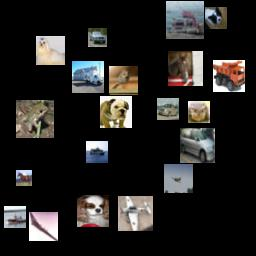airplane: (118, 196, 153, 231), (164, 164, 193, 193), (29, 212, 58, 241)
automobile: (180, 128, 215, 163), (157, 98, 179, 120), (88, 28, 107, 47)
bird: (109, 66, 138, 95)
dog: (100, 96, 132, 128), (77, 195, 109, 227), (36, 36, 65, 65), (205, 7, 227, 29)
frog: (16, 100, 54, 138), (188, 101, 210, 123)
ship: (166, 1, 204, 39), (86, 141, 108, 163), (4, 206, 26, 228)
truck: (213, 60, 245, 92), (72, 61, 104, 93)
